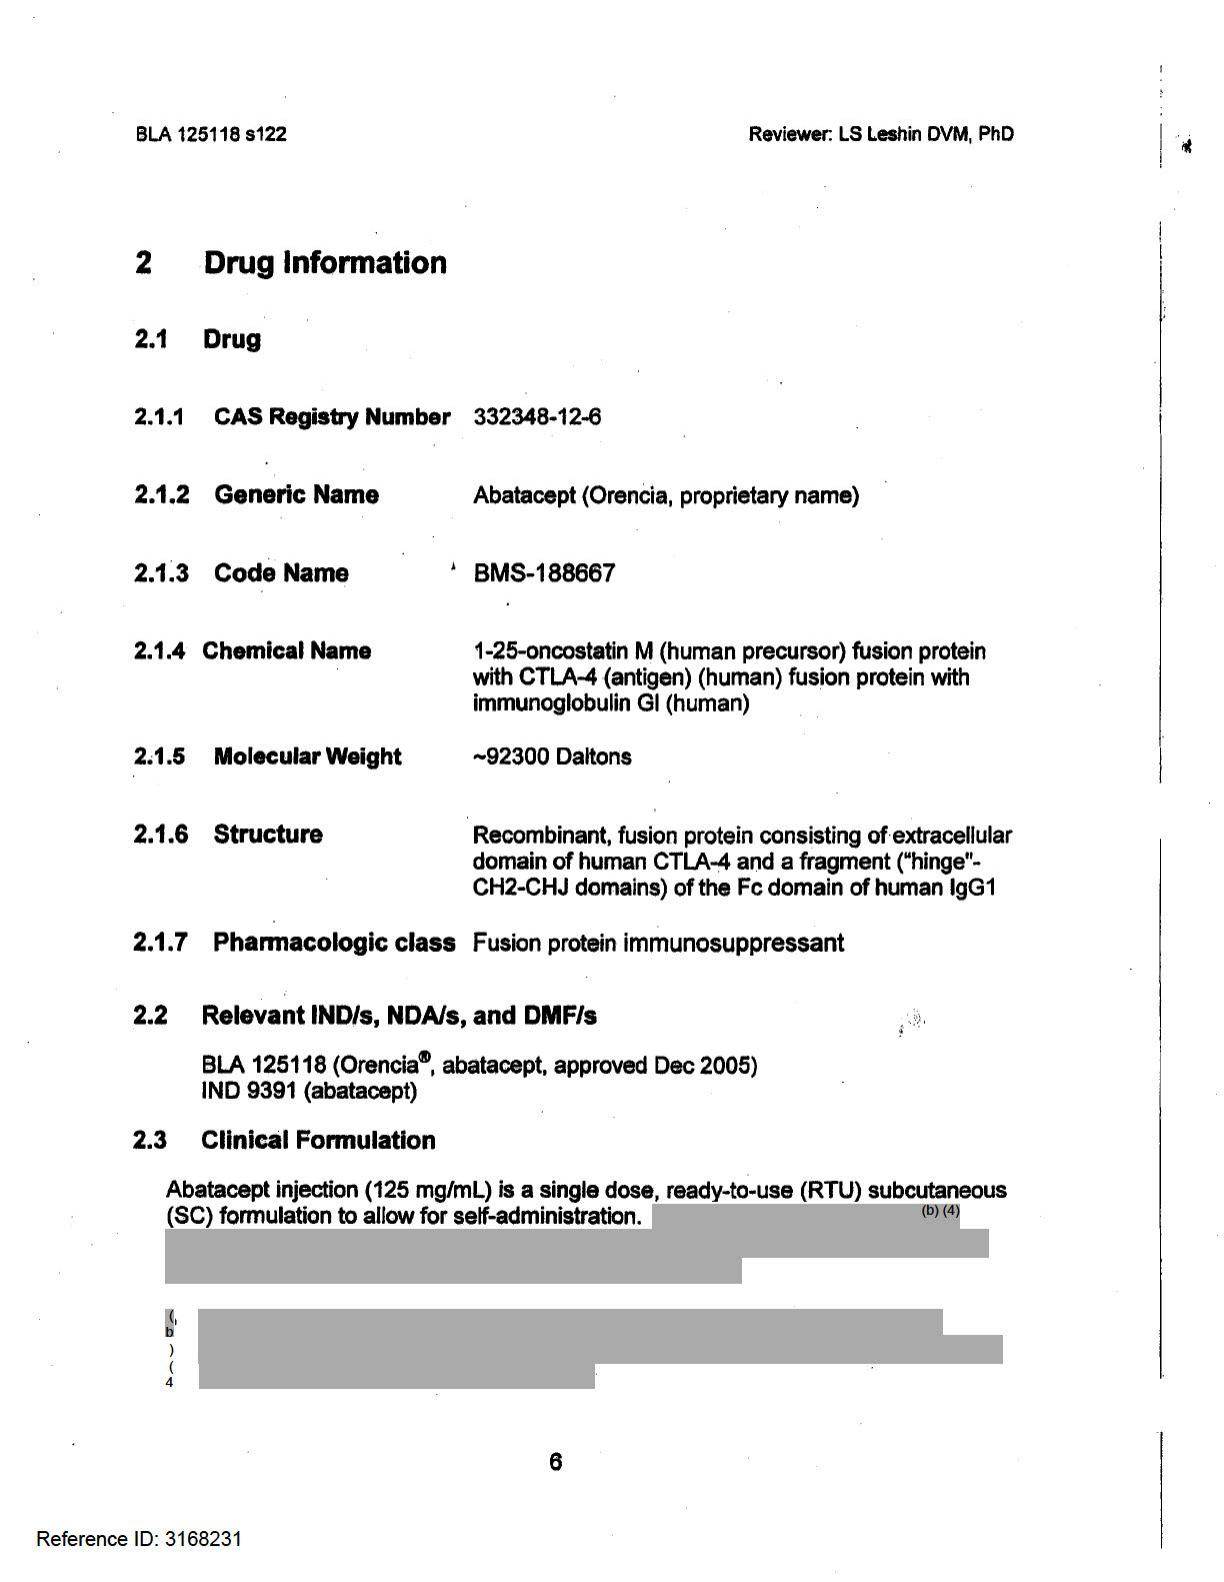nolines: (128, 243, 1016, 901)
